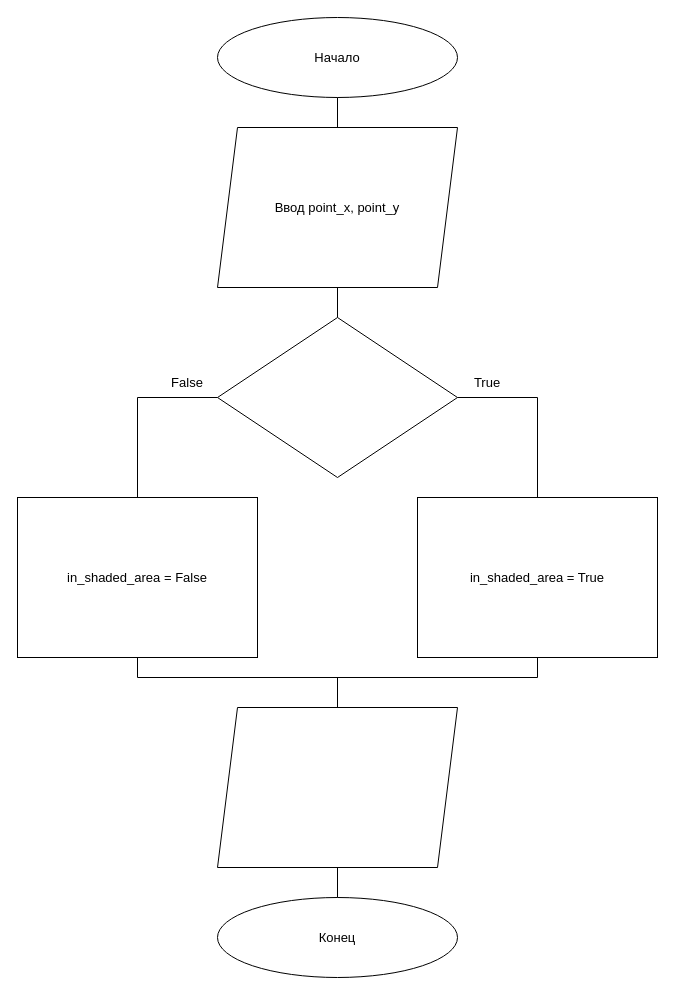
The diagram is 675 pixels wide and 995 high, and some of its shapes have lost their labels. Each missing label, with the centre of its shape:
"(point_x² + point_y² ≤ 9) и ((point_y ≥ -point_x+3) или (point_y ≤ point_x-3))" goes at [337,397].
"Вывод in_shaded_area" goes at [337,787].
